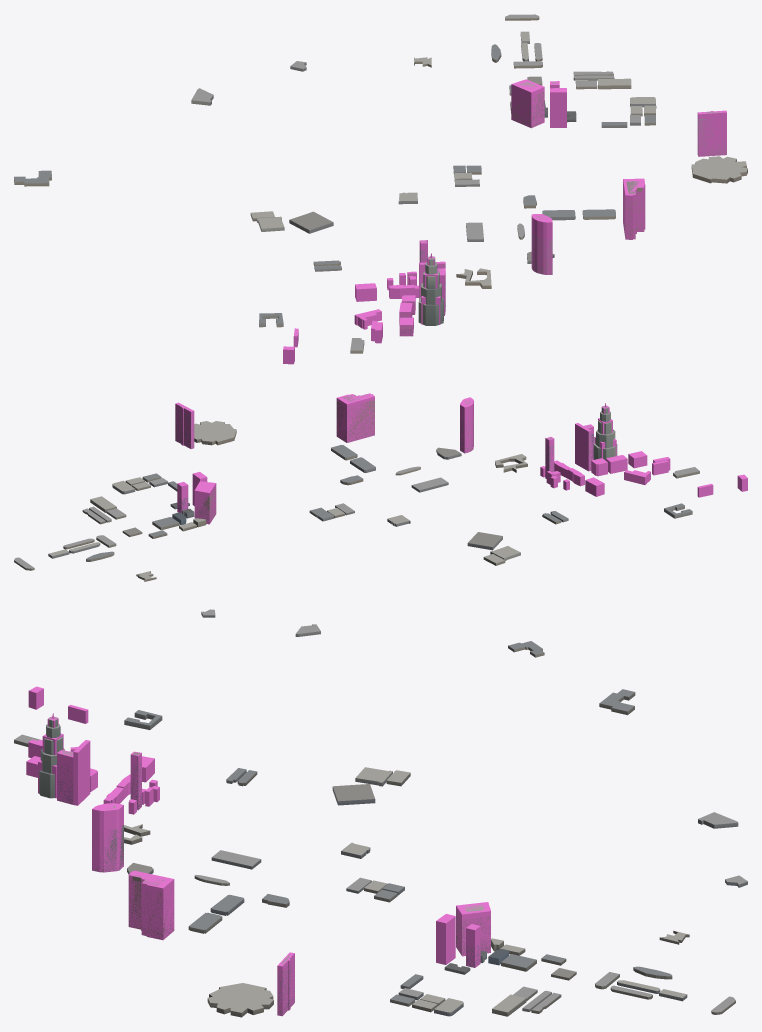
The model's file is bld_13_11.fbx.
3 views of the same model, one above another, from view 1: azimuth 30°, elevation 25°; view 2: azimuth 150°, elevation 25°; view 3: azimuth 270°, elevation 25° (orthographic). The views are drawn at different scales.
Parts seen in each view (by area): view 1: bld_13_11_LOD0, bld_13_11_COL; view 2: bld_13_11_LOD0, bld_13_11_COL; view 3: bld_13_11_LOD0, bld_13_11_COL.
Boxes of the visible parts, x1=… form: bld_13_11_LOD0: x1=14, y1=14, x2=747, y2=353; bld_13_11_COL: x1=283, y1=79, x2=726, y2=364; bld_13_11_LOD0: x1=14, y1=394, x2=699, y2=657; bld_13_11_COL: x1=175, y1=393, x2=747, y2=524; bld_13_11_LOD0: x1=14, y1=689, x2=747, y2=1017; bld_13_11_COL: x1=26, y1=686, x2=490, y2=1016.
Size of what is drawn, in the model's own units: 2094 by 237 by 2000.
